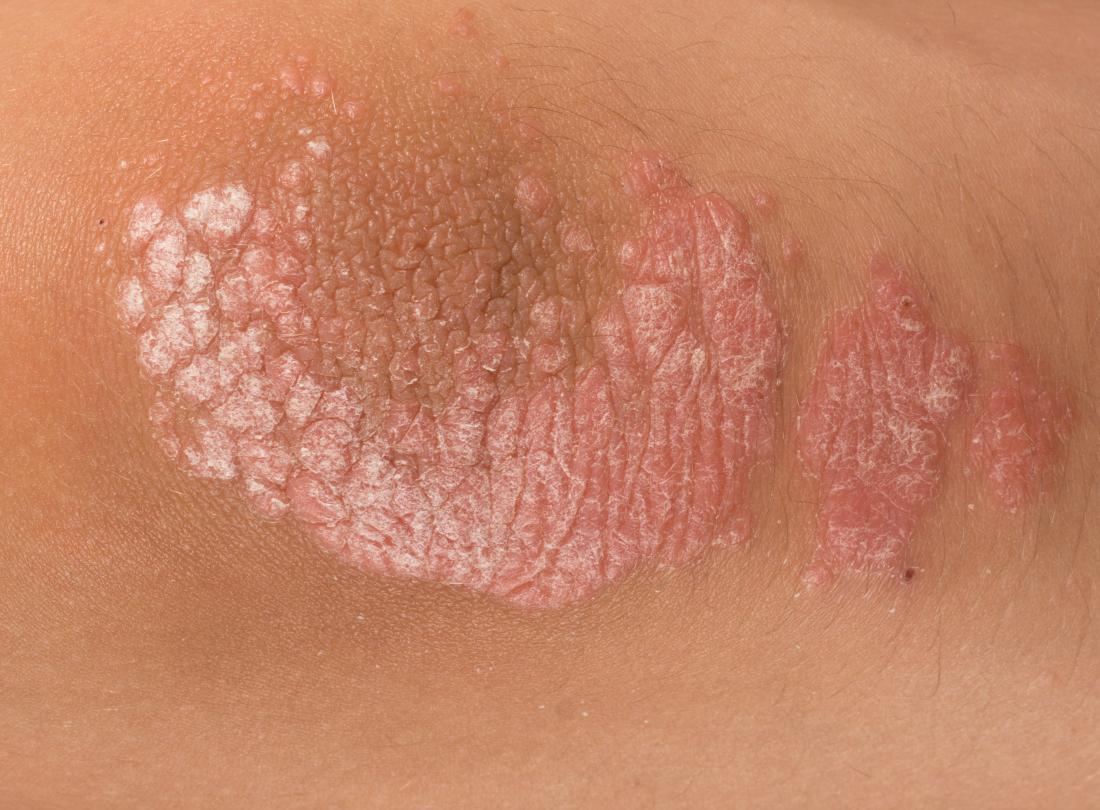Psoriasis: (129, 129, 790, 604)
